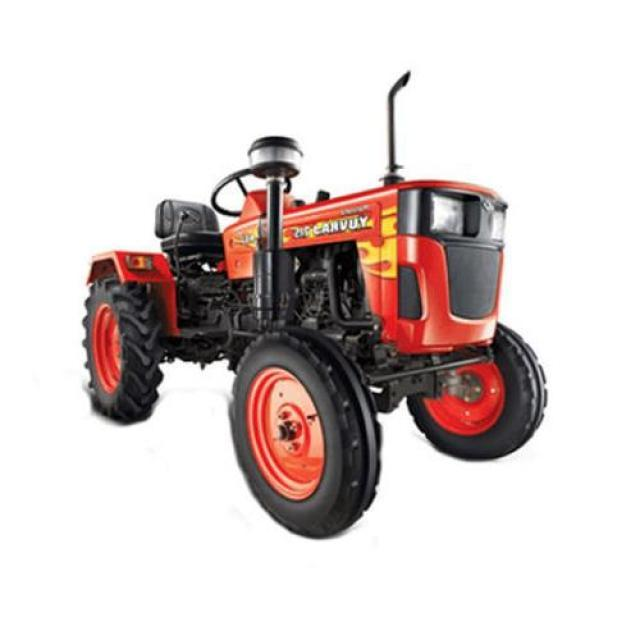Tratores - v5 YOLO V8L 2024-11-13: (59, 66, 546, 541)
